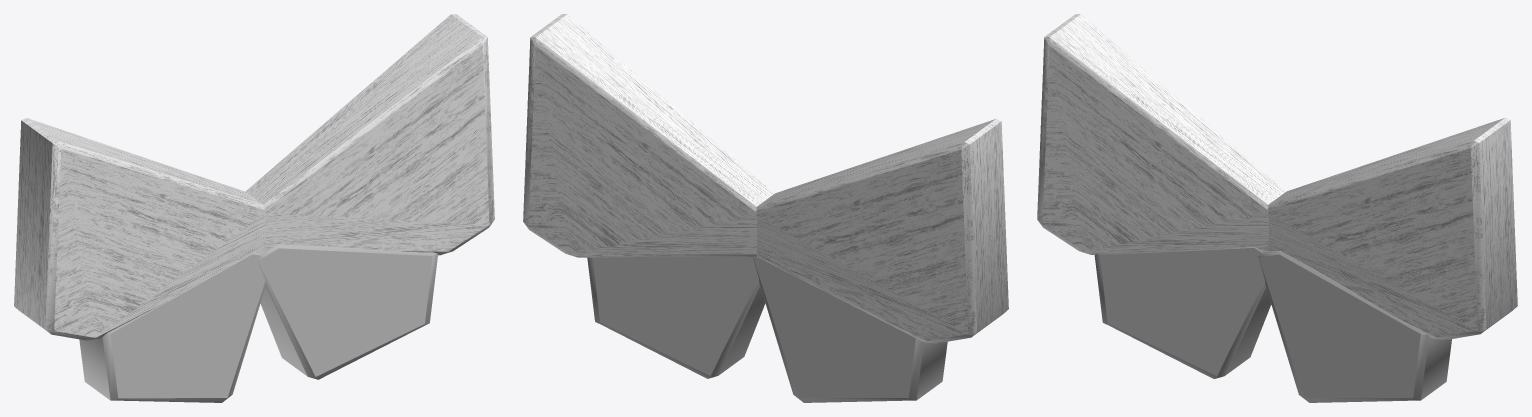
File: hudiejie.FBX
3 renders of one model, left to right at view 1: azimuth 30°, elevation 25°; view 2: azimuth 150°, elevation 25°; view 3: azimuth 330°, elevation 25°, orthographic.
Parts seen in each view (by area): view 1: hudiejie; view 2: hudiejie; view 3: hudiejie.
Boxes of the visible parts, bbox=[...] form: hudiejie: bbox=[14, 14, 494, 402]; hudiejie: bbox=[523, 14, 1008, 402]; hudiejie: bbox=[1037, 14, 1517, 402].
Bounding box in the file's own units: 180 × 116 × 24.16.
